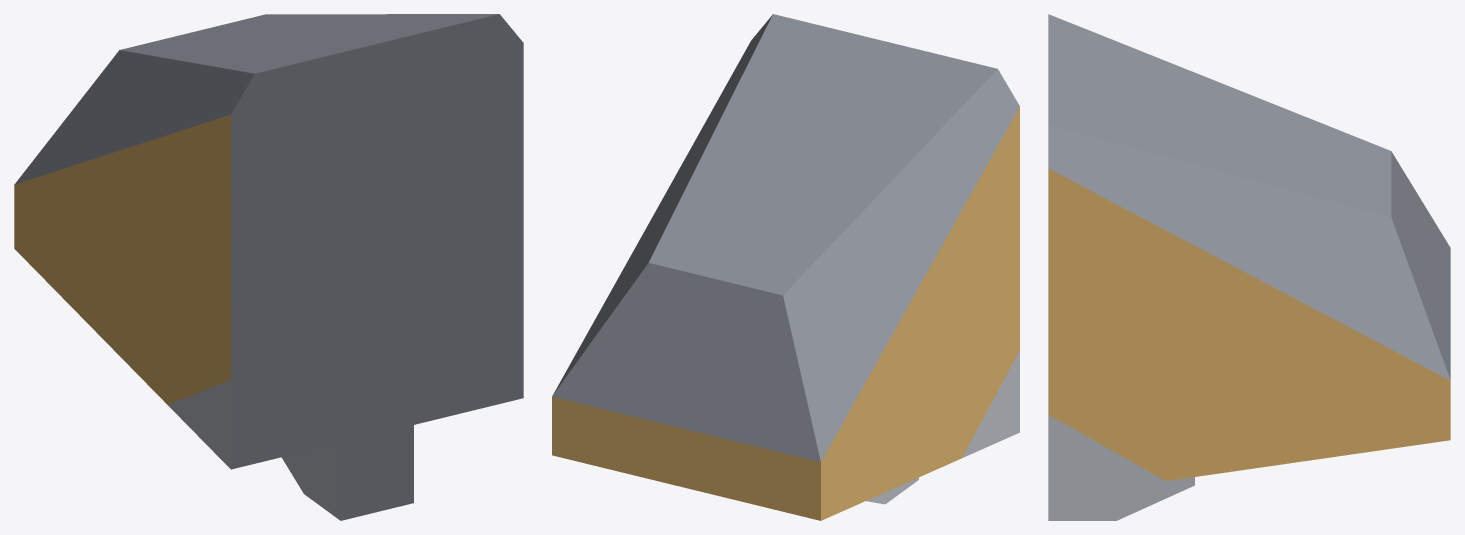
Rendered from nose.glb.
The picture shows the model from 3 angles, left to right: view 1: azimuth 30°, elevation 25°; view 2: azimuth 150°, elevation 25°; view 3: azimuth 270°, elevation 25°; orthographic projection. The views are drawn at different scales.
Size of the model in its own units: 0.8 by 1.22 by 1.03.
